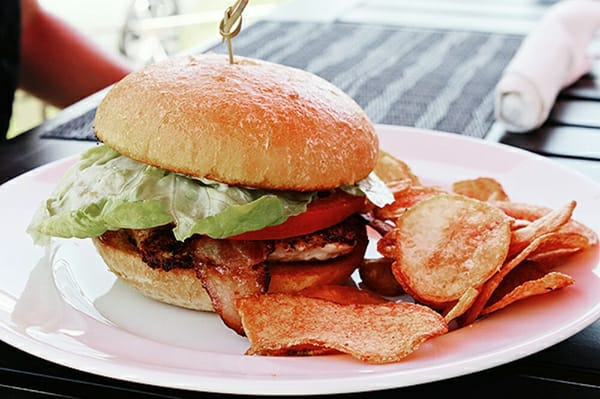soup: (32, 47, 557, 366), (28, 51, 395, 349)
